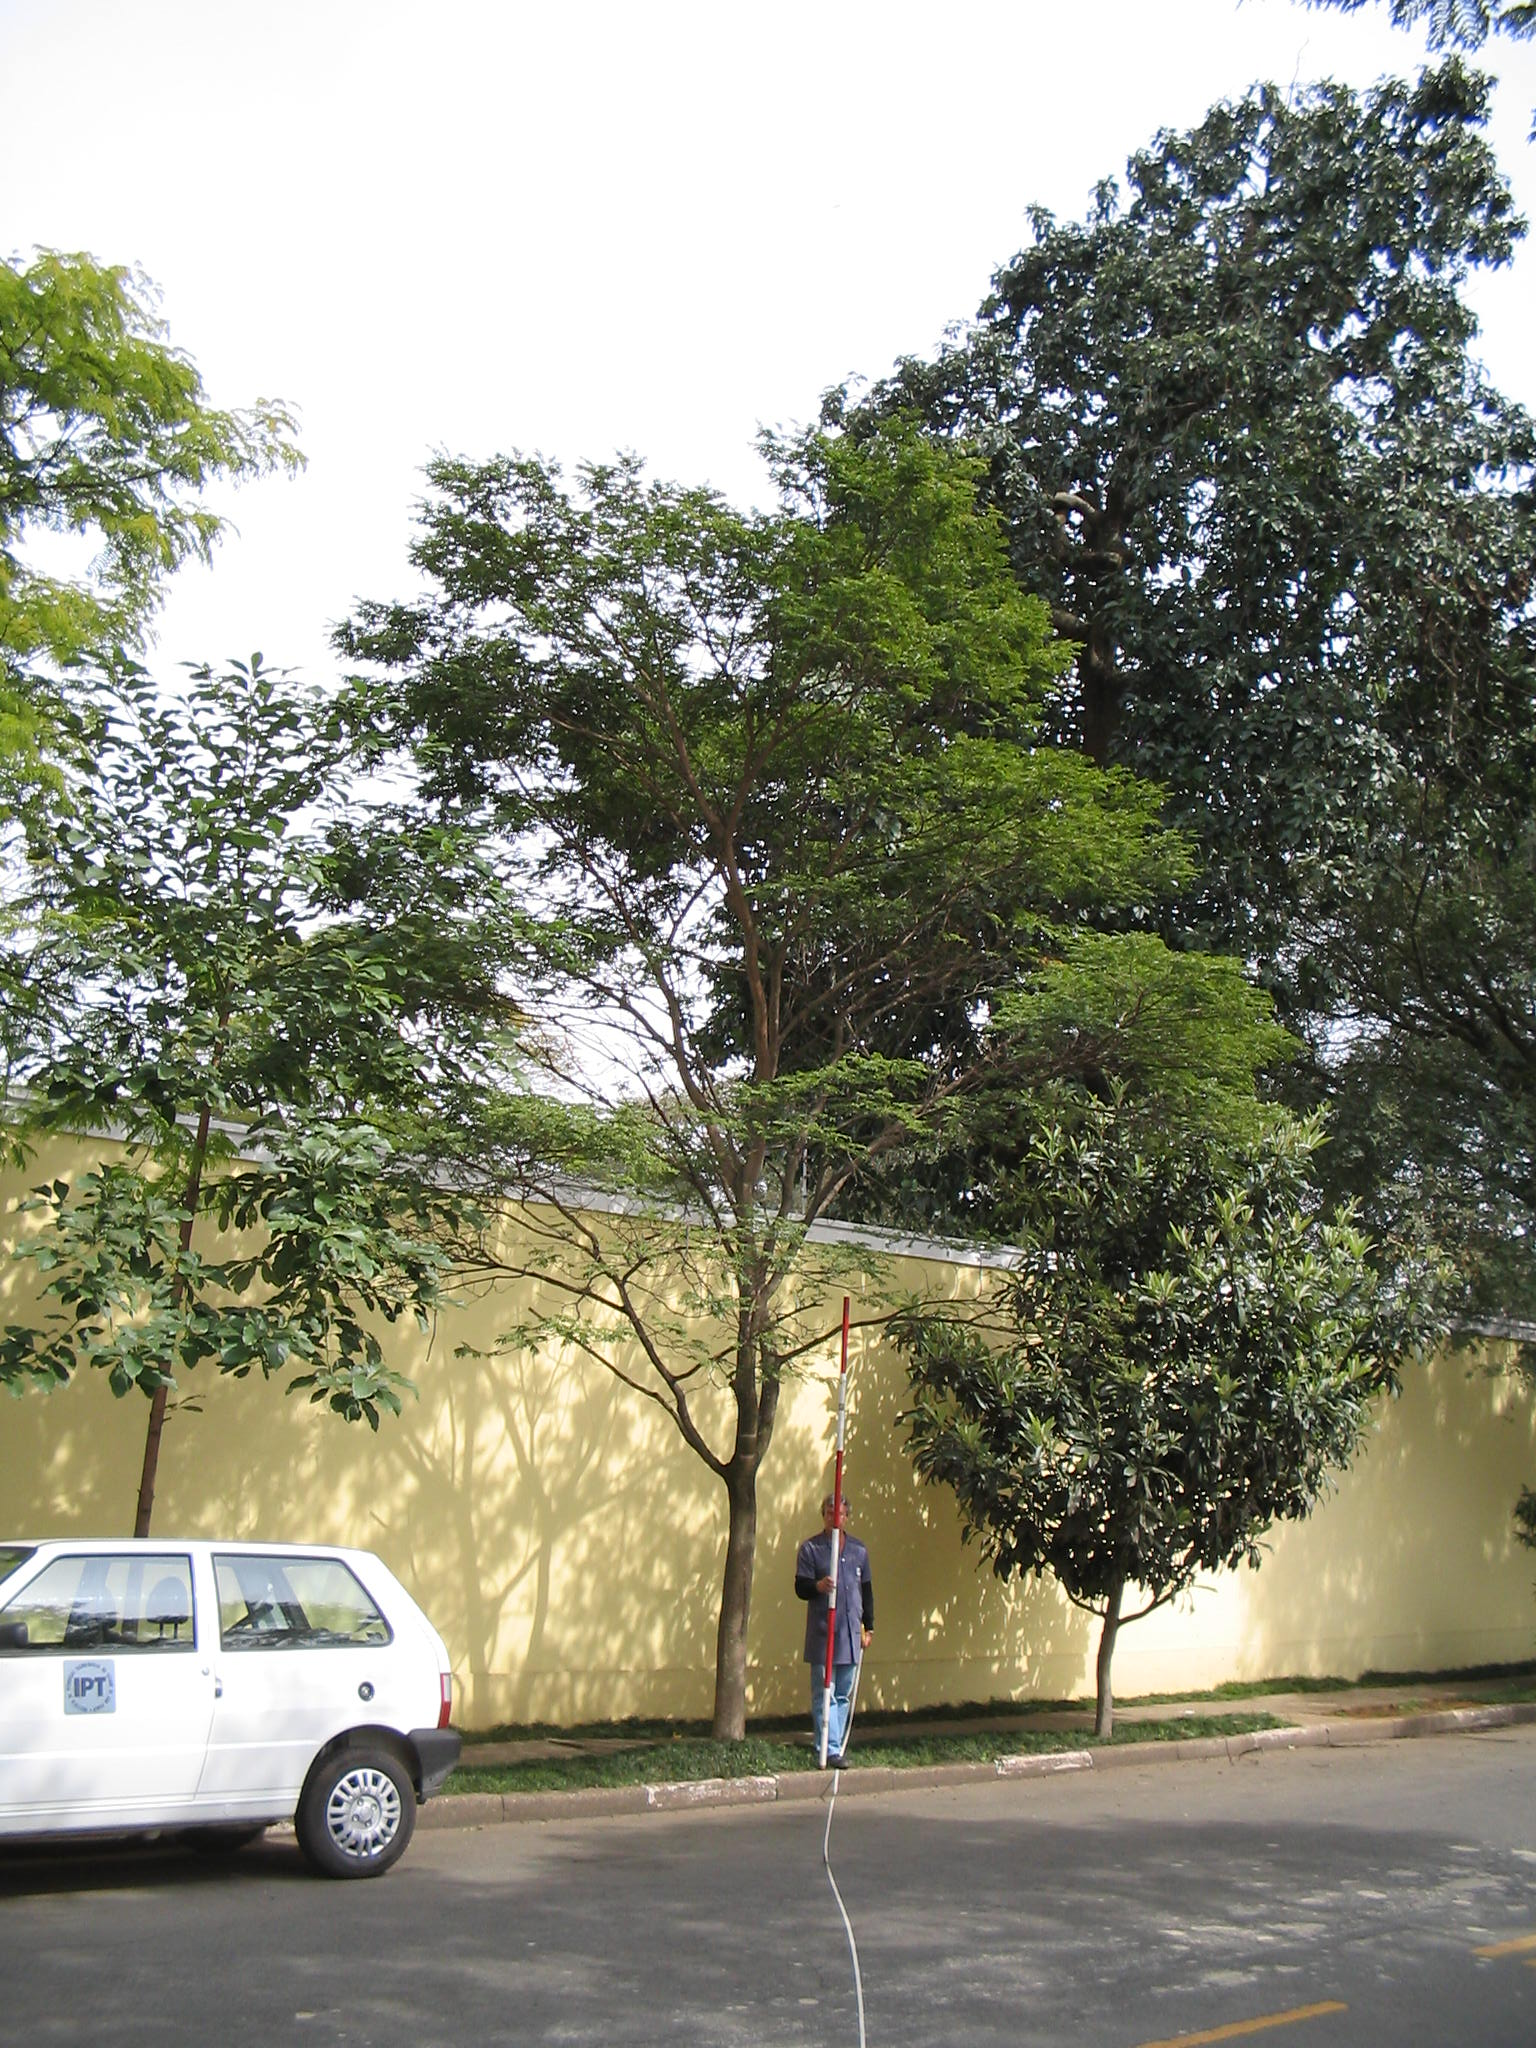crown: (316, 413, 1320, 1226), (899, 1155, 1431, 1603)
stem: (681, 1471, 794, 1746), (1060, 1616, 1139, 1737)
stick: (802, 1295, 878, 1771)
tree: (307, 408, 1328, 1750), (6, 663, 452, 1534), (891, 1145, 1436, 1734)
